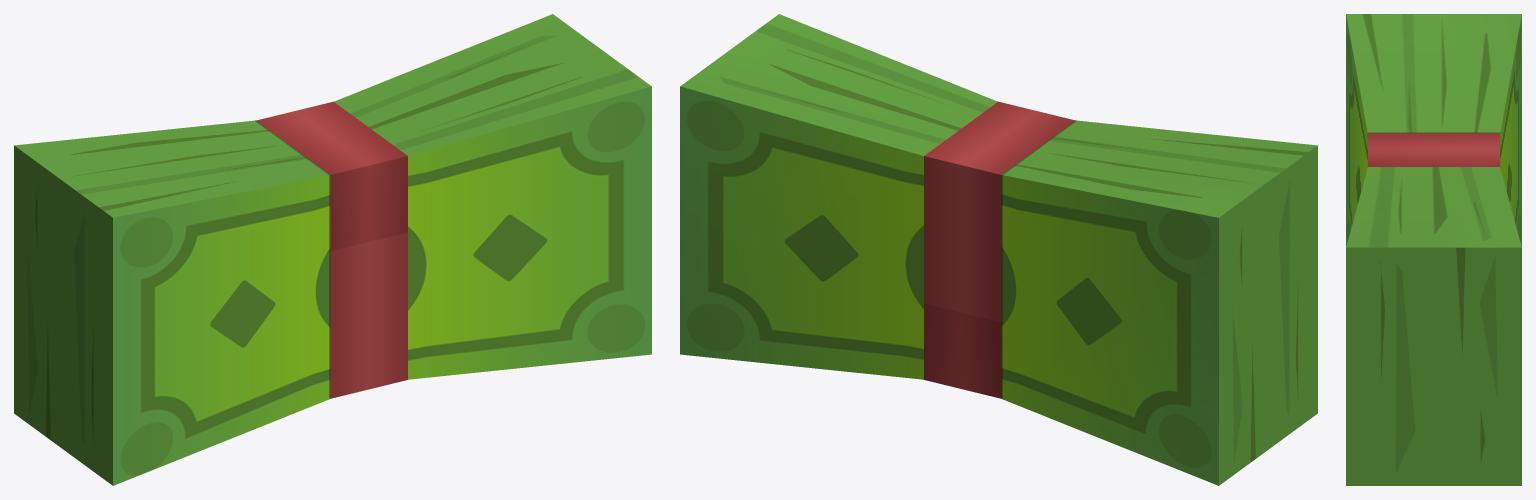
The model's file is money 1.fbx.
3 views of the same model, side by side, from view 1: azimuth 30°, elevation 25°; view 2: azimuth 150°, elevation 25°; view 3: azimuth 270°, elevation 25° (orthographic). The views are drawn at different scales.
Visible parts, largest first — view 1: Mesh.002; view 2: Mesh.002; view 3: Mesh.002.
Boxes of the visible parts, x1,y1,x2,y2 form: Mesh.002: (14,14,651,485); Mesh.002: (680,14,1317,485); Mesh.002: (1346,14,1521,485).
Size of the model in its own units: 101 by 48.19 by 32.23.
